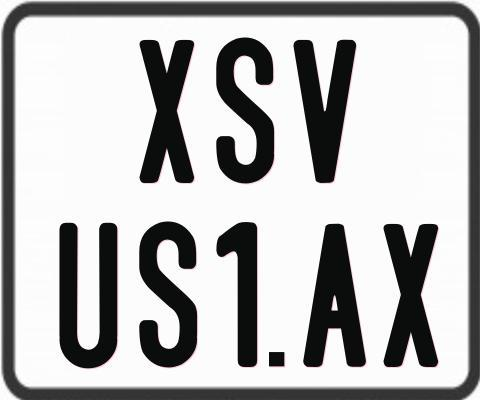1: (215, 219, 258, 368)
A: (300, 223, 363, 369)
S: (215, 35, 276, 187), (136, 219, 196, 365)
U: (59, 222, 122, 367)
V: (293, 37, 358, 181)
X: (381, 224, 441, 372), (137, 37, 194, 183)
